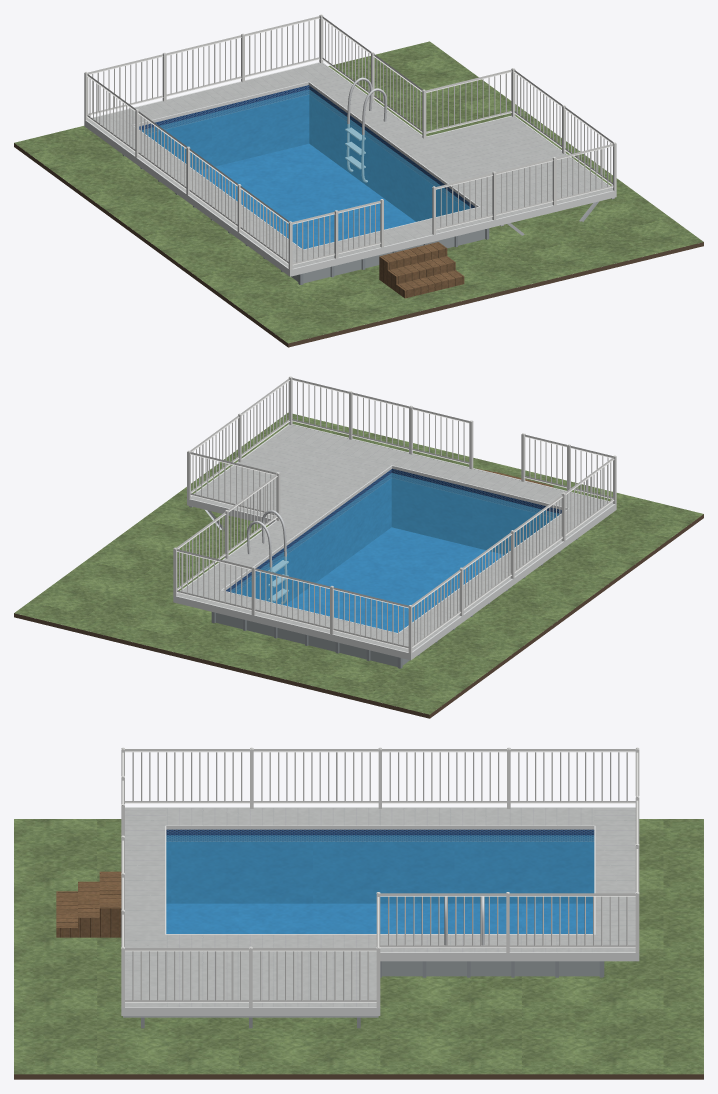
File: kayak-pool-12x20-gray-l-rec-fence.65c176edae.glb
The picture shows the model from 3 angles, top to bottom: view 1: azimuth 30°, elevation 25°; view 2: azimuth 150°, elevation 25°; view 3: azimuth 270°, elevation 25°; orthographic projection. The views are drawn at different scales.
Parts seen in each view (by area): view 1: ground, water, deck, fence, liner_wall, liner_floor, fascia, steps, soil, wall, steel; view 2: ground, water, deck, fence, liner_wall, liner_floor, fascia, soil, wall, steel; view 3: ground, water, deck, liner_wall, fence, liner_floor, fascia, soil, steps, wall, stud.
Boxes of the visible parts, left/top/right/bottom form: ground: left=14, top=41, right=703, bottom=343; water: left=142, top=89, right=471, bottom=248; deck: left=87, top=63, right=612, bottom=268; fence: left=84, top=14, right=616, bottom=269; liner_wall: left=139, top=85, right=475, bottom=221; liner_floor: left=196, top=144, right=415, bottom=248; fascia: left=84, top=62, right=616, bottom=276; steps: left=379, top=242, right=464, bottom=298; soil: left=14, top=143, right=703, bottom=347; wall: left=291, top=229, right=485, bottom=283; steel: left=345, top=77, right=386, bottom=182; ground: left=14, top=412, right=703, bottom=714; water: left=229, top=473, right=558, bottom=632; deck: left=177, top=425, right=613, bottom=652; fence: left=173, top=376, right=616, bottom=653; liner_wall: left=226, top=468, right=561, bottom=605; liner_floor: left=285, top=527, right=503, bottom=632; fascia: left=173, top=424, right=616, bottom=660; soil: left=14, top=514, right=703, bottom=718; wall: left=215, top=613, right=409, bottom=666; steel: left=247, top=510, right=288, bottom=603; ground: left=14, top=819, right=703, bottom=1074; water: left=166, top=835, right=594, bottom=933; deck: left=125, top=808, right=635, bottom=1006; liner_wall: left=166, top=829, right=594, bottom=903; fence: left=121, top=747, right=639, bottom=1007; liner_floor: left=166, top=903, right=592, bottom=933; fascia: left=121, top=807, right=639, bottom=1015; soil: left=14, top=1074, right=703, bottom=1079; steps: left=56, top=871, right=121, bottom=937; wall: left=382, top=961, right=599, bottom=976; stud: left=123, top=1016, right=378, bottom=1028.
Size of the model in its own units: 8.53 by 2.15 by 9.75.
Materials: 13 (5 with a texture image).
